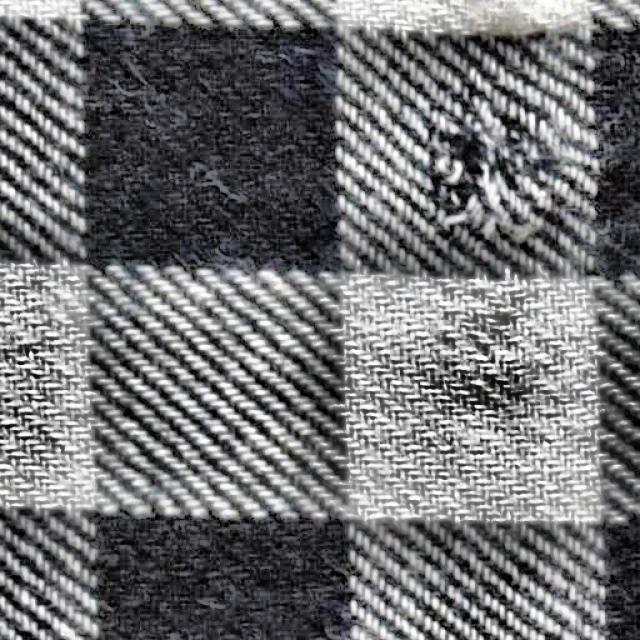cut: (405, 67, 580, 298)
